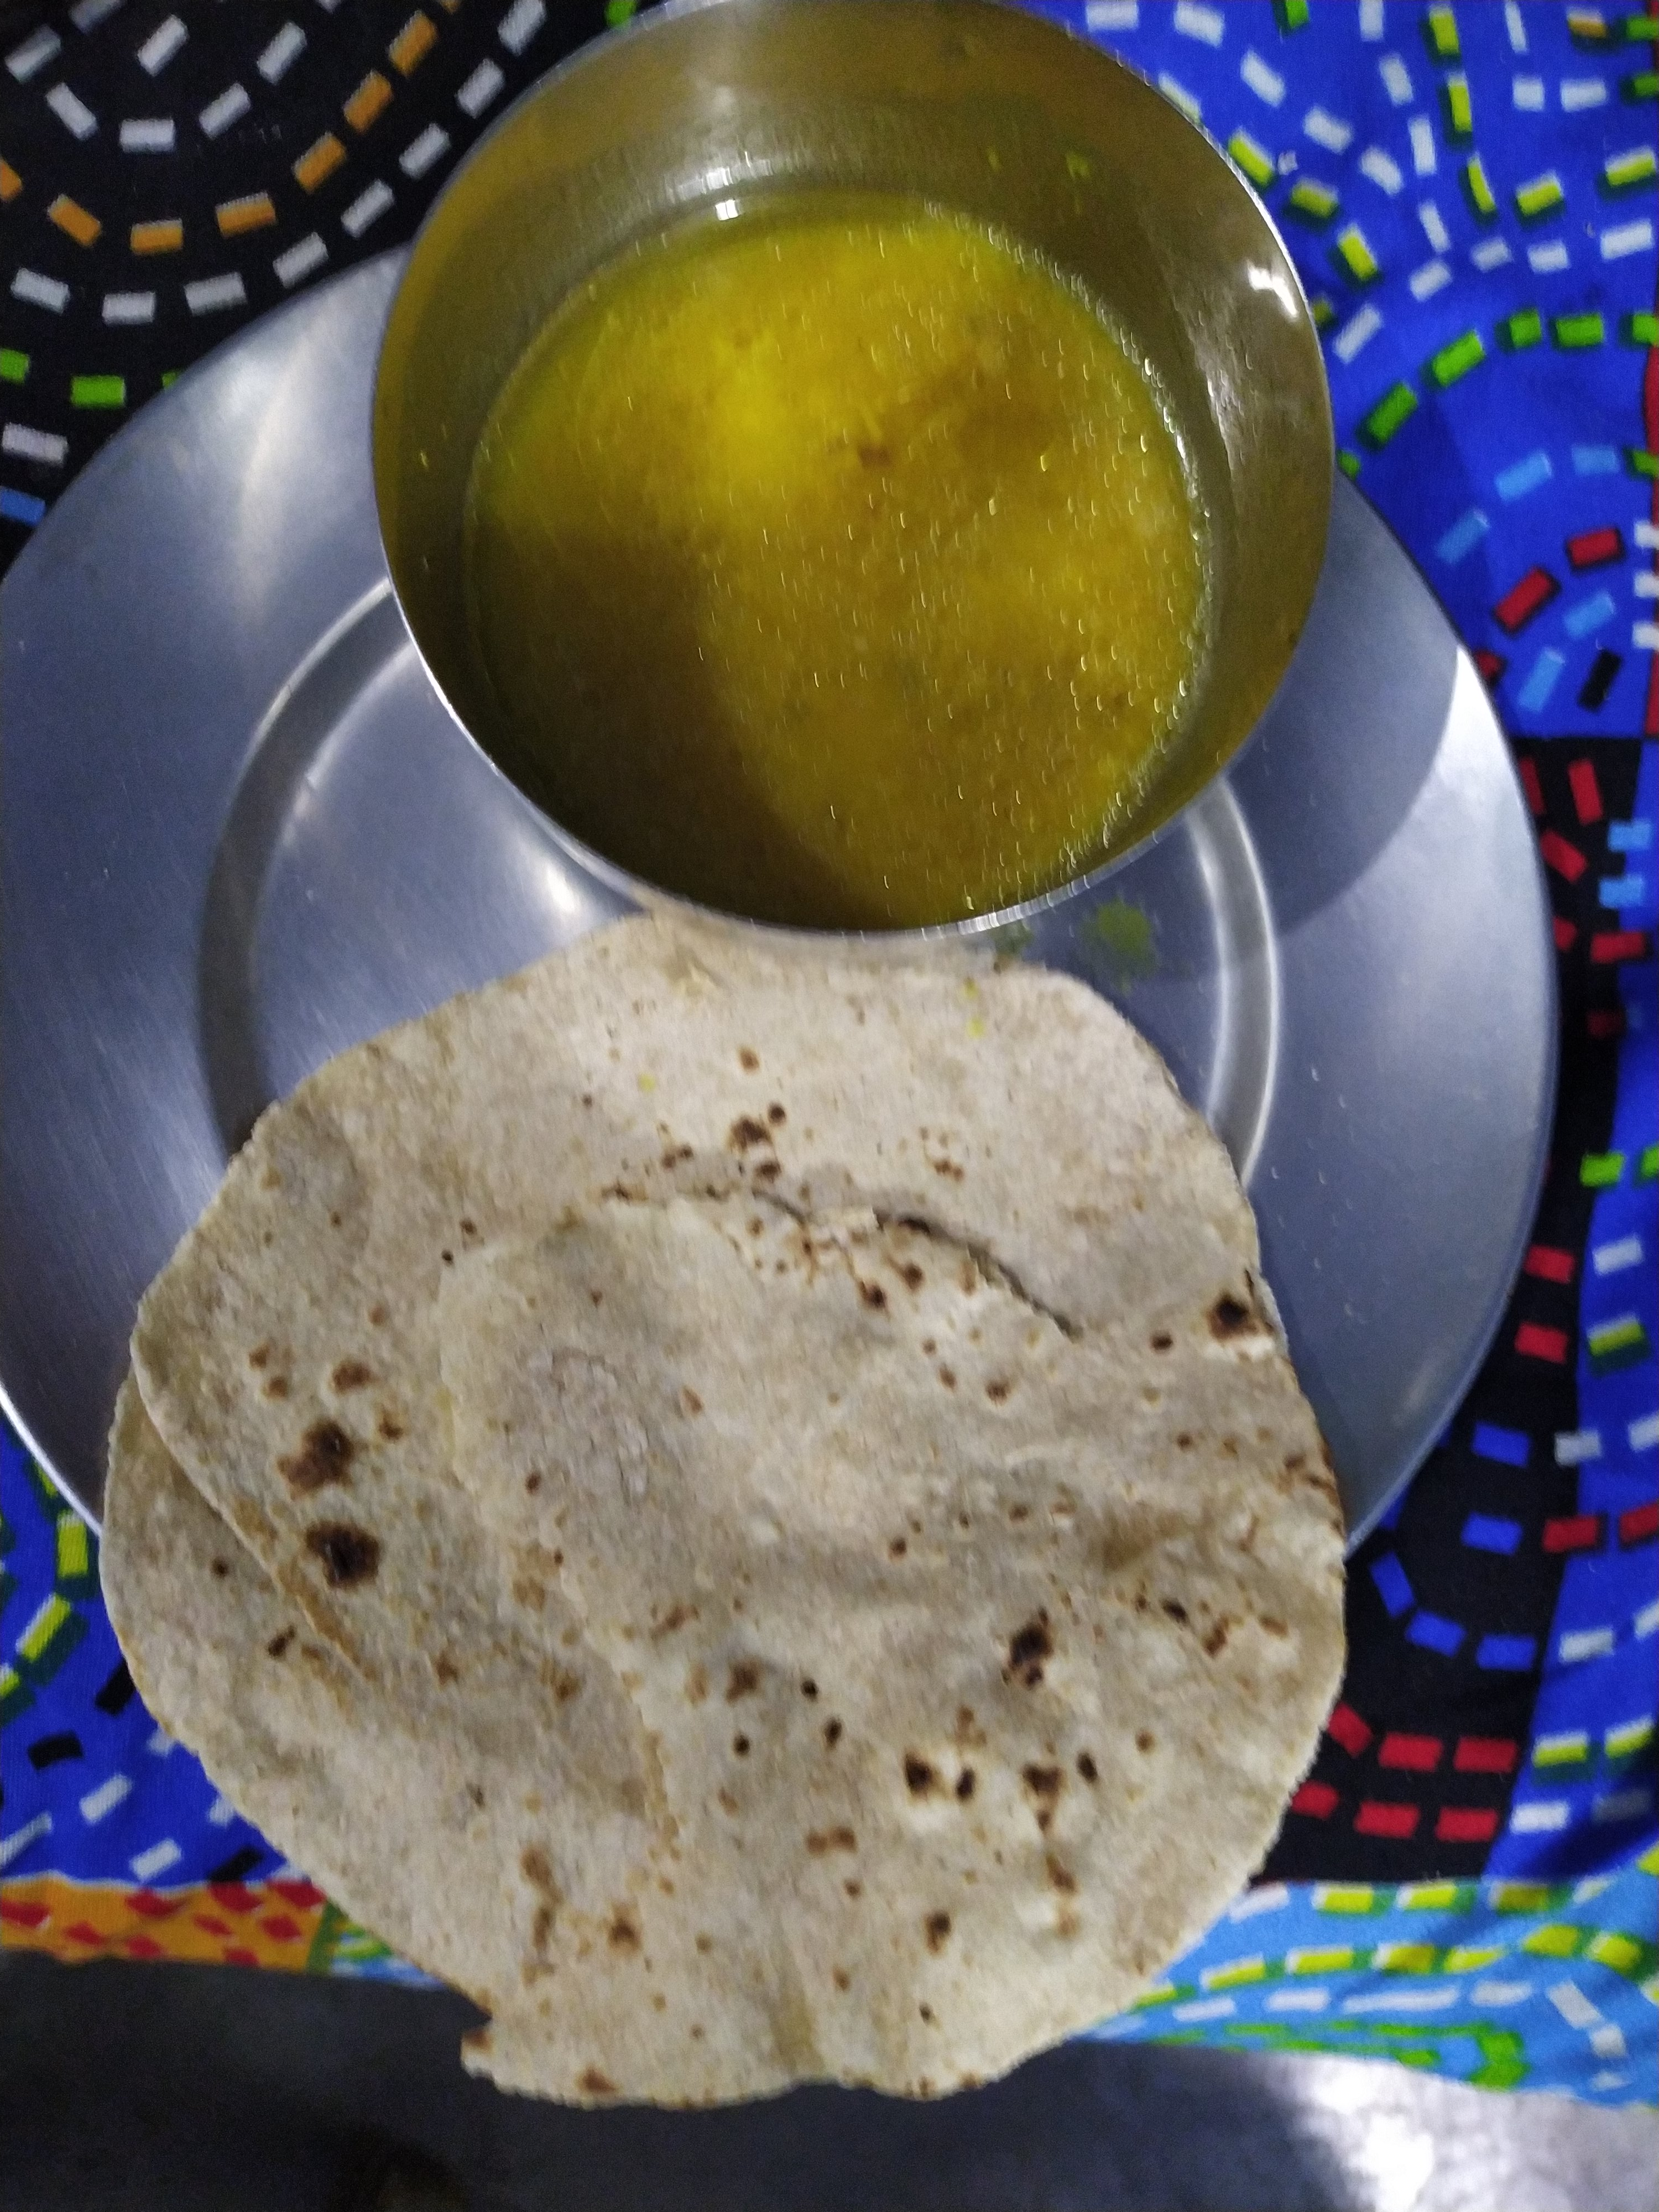food: (91, 160, 1364, 2123)
